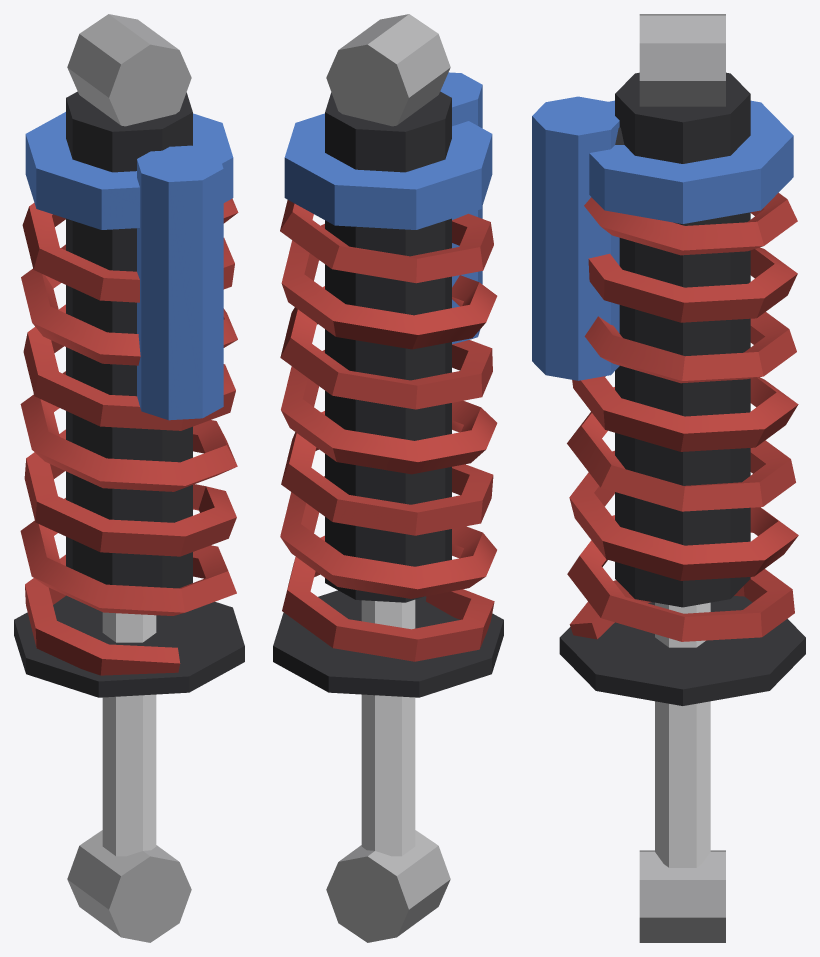
File: mono_shock_mx_lod1.glb
3 renders of one model, left to right at view 1: azimuth 30°, elevation 25°; view 2: azimuth 150°, elevation 25°; view 3: azimuth 270°, elevation 25°, orthographic. The views are drawn at different scales.
Parts seen in each view (by area): view 1: mono_shock_mx_lod1; view 2: mono_shock_mx_lod1; view 3: mono_shock_mx_lod1.
Part boxes in pixels (x1,y1,x2,y2): mono_shock_mx_lod1: (14, 14, 244, 942); mono_shock_mx_lod1: (273, 14, 503, 942); mono_shock_mx_lod1: (532, 14, 805, 942).
Size of the model in its own units: 0.08 by 0.332 by 0.089.
